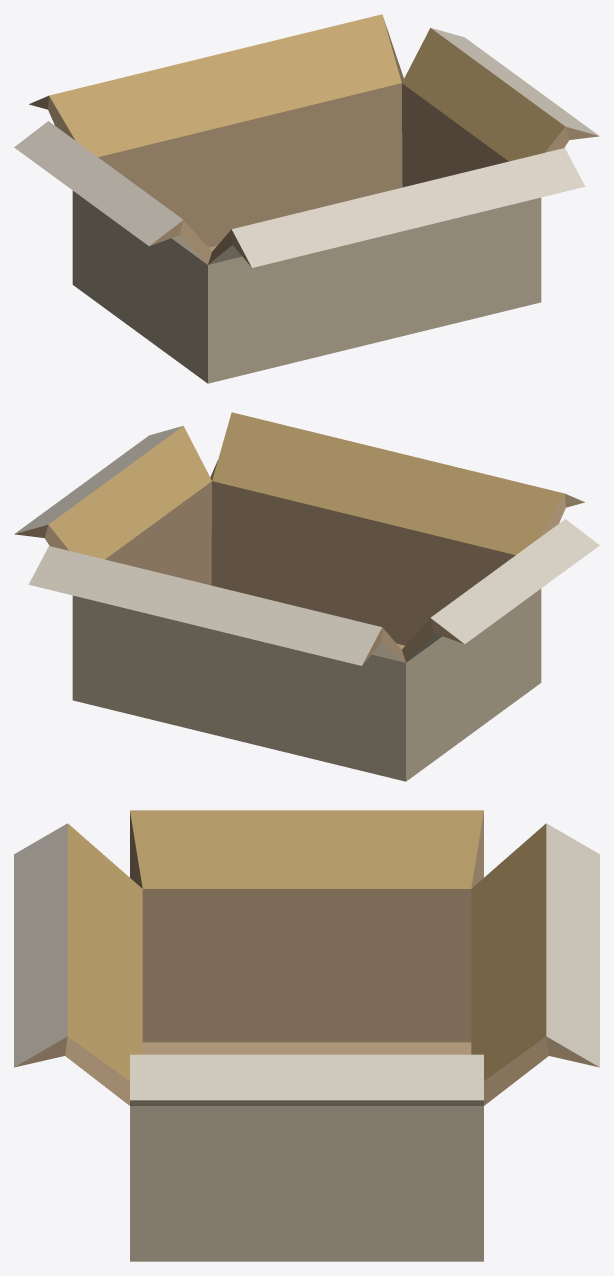
Rendered from TB_Prop_Box_I.FBX.
3 renders of one model, top to bottom at view 1: azimuth 30°, elevation 25°; view 2: azimuth 150°, elevation 25°; view 3: azimuth 270°, elevation 25°, orthographic. The views are drawn at different scales.
Visible parts, largest first — view 1: TB_Prop_Box_I; view 2: TB_Prop_Box_I; view 3: TB_Prop_Box_I.
Boxes of the visible parts, x1,y1,x2,y2 form: TB_Prop_Box_I: (14, 14, 599, 383); TB_Prop_Box_I: (14, 412, 599, 781); TB_Prop_Box_I: (14, 810, 599, 1261).
Bounding box in the file's own units: 1.43 × 0.5218 × 1.23.
